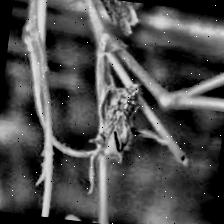Gray Mold: (82, 76, 174, 202)
